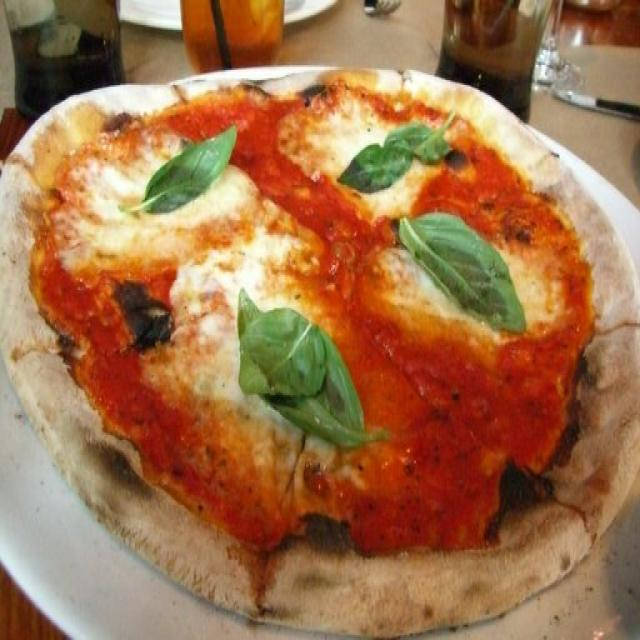Basil: (231, 283, 386, 445), (399, 213, 525, 331), (127, 120, 241, 206), (340, 111, 460, 185)
Cheese: (186, 241, 342, 450), (68, 145, 236, 273), (286, 88, 429, 210), (382, 232, 547, 330)
Pizza: (0, 73, 639, 633)
